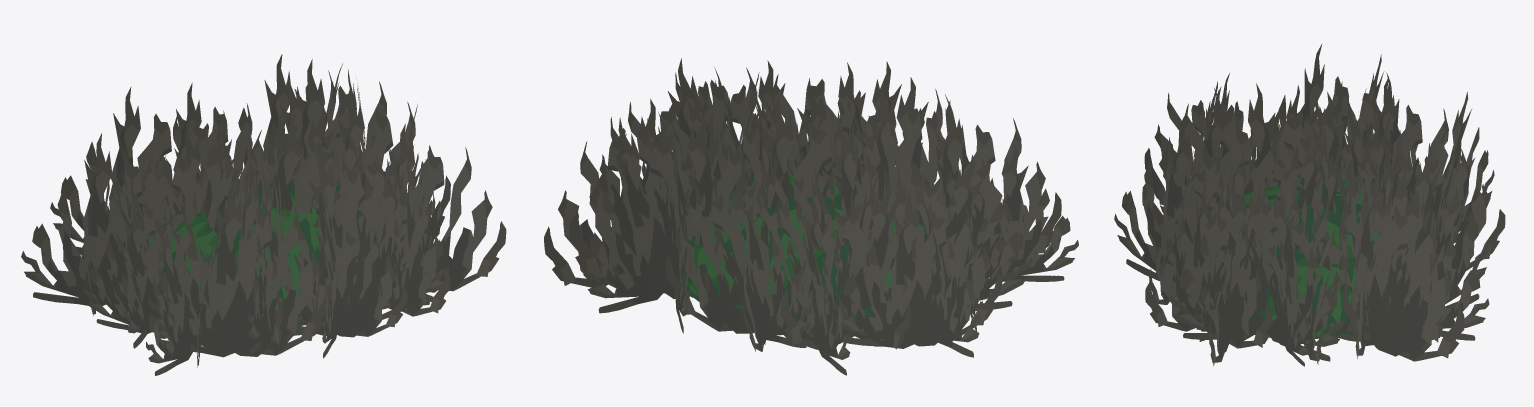
The model's file is SM_Env_Shrub_02.fbx.
3 renders of one model, left to right at view 1: azimuth 30°, elevation 25°; view 2: azimuth 150°, elevation 25°; view 3: azimuth 270°, elevation 25°, orthographic. The views are drawn at different scales.
Visible parts, largest first — view 1: SM_Env_Shrub_02_LOD0; view 2: SM_Env_Shrub_02_LOD0; view 3: SM_Env_Shrub_02_LOD0.
Part boxes in pixels (<box>): SM_Env_Shrub_02_LOD0: <box>21,54,506,375</box>; SM_Env_Shrub_02_LOD0: <box>544,58,1078,375</box>; SM_Env_Shrub_02_LOD0: <box>1114,43,1505,366</box>.
Size of what is drawn, in the model's own units: 427 by 206 by 358.
